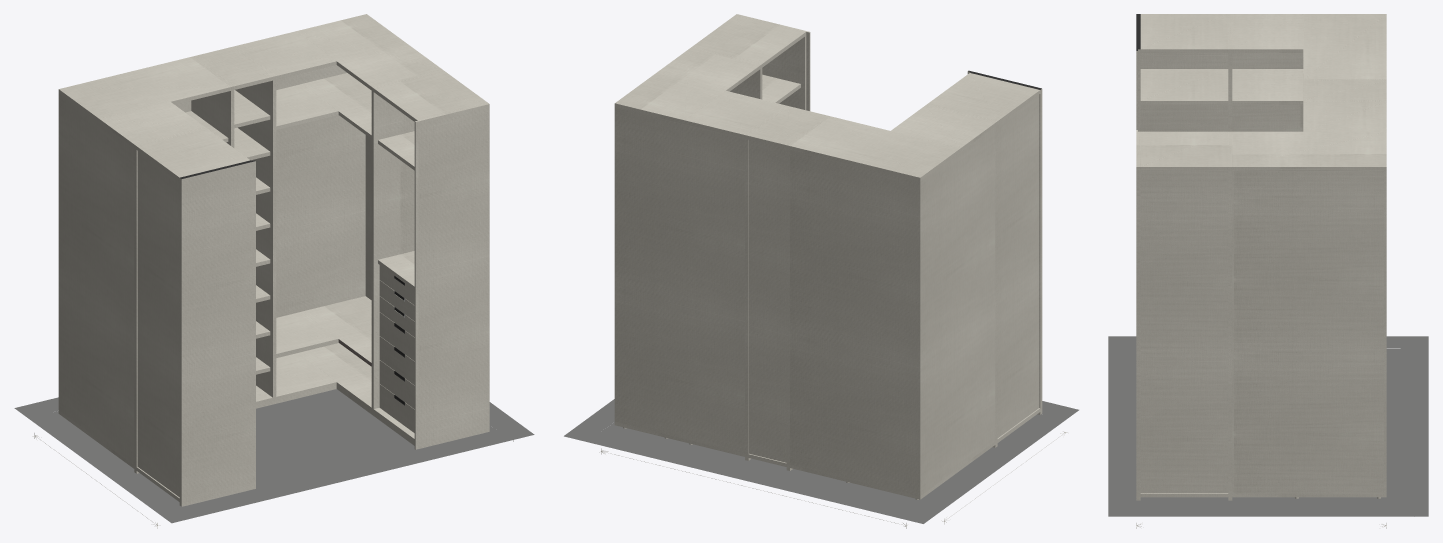
Rendered from C1-D3-PC-Drawers-TI.obj.
3 renders of one model, left to right at view 1: azimuth 30°, elevation 25°; view 2: azimuth 150°, elevation 25°; view 3: azimuth 270°, elevation 25°, orthographic. The views are drawn at different scales.
Parts seen in each view (by area): view 1: Mesh4 C1_D3_PC_DXF1 Model, Mesh26 C1_D3_PC_DXF1 Model, Mesh71 C1_D3_PC_DXF1 Model, Mesh7 C1_D3_PC_DXF1 Model, Mesh109 C1_D3_PC_DXF1 Model, Mesh110 C1_D3_PC_DXF1 Model, Mesh64 C1_D3_PC_DXF1 Model, Mesh87 C1_D3_PC_DXF1 Model, Mesh78 C1_D3_PC_DXF1 Model, Mesh77 C1_D3_PC_DXF1 Model, Mesh86 C1_D3_PC_DXF1 Model, Mesh108 C1_D3_PC_DXF1 Model (+3 smaller); view 2: Mesh26 C1_D3_PC_DXF1 Model, Mesh71 C1_D3_PC_DXF1 Model, Mesh4 C1_D3_PC_DXF1 Model, Mesh7 C1_D3_PC_DXF1 Model, Mesh53 C1_D3_PC_DXF1 Model, Mesh110 C1_D3_PC_DXF1 Model, Mesh109 C1_D3_PC_DXF1 Model, Mesh19 C1_D3_PC_DXF1 Model, Mesh98 C1_D3_PC_DXF1 Model; view 3: Mesh71 C1_D3_PC_DXF1 Model, Mesh4 C1_D3_PC_DXF1 Model, Mesh97 C1_D3_PC_DXF1 Model, Mesh110 C1_D3_PC_DXF1 Model, Mesh109 C1_D3_PC_DXF1 Model, Mesh7 C1_D3_PC_DXF1 Model, Mesh11 C1_D3_PC_DXF1 Model, Mesh26 C1_D3_PC_DXF1 Model, Mesh32 C1_D3_PC_DXF1 Model, Mesh64 C1_D3_PC_DXF1 Model.
Part boxes in pixels (x1,y1,x2,y2): Mesh4 C1_D3_PC_DXF1 Model: (58,14,489,506); Mesh26 C1_D3_PC_DXF1 Model: (58,93,191,464); Mesh71 C1_D3_PC_DXF1 Model: (276,65,371,357); Mesh7 C1_D3_PC_DXF1 Model: (137,151,179,496); Mesh109 C1_D3_PC_DXF1 Model: (52,389,496,507); Mesh110 C1_D3_PC_DXF1 Model: (14,397,534,523); Mesh64 C1_D3_PC_DXF1 Model: (276,343,371,406); Mesh87 C1_D3_PC_DXF1 Model: (302,296,371,366); Mesh78 C1_D3_PC_DXF1 Model: (302,73,371,138); Mesh77 C1_D3_PC_DXF1 Model: (276,84,338,129); Mesh86 C1_D3_PC_DXF1 Model: (276,312,338,357); Mesh108 C1_D3_PC_DXF1 Model: (256,382,414,445); Mesh26 C1_D3_PC_DXF1 Model: (790,127,995,495); Mesh71 C1_D3_PC_DXF1 Model: (614,107,744,453); Mesh4 C1_D3_PC_DXF1 Model: (614,14,1042,470); Mesh7 C1_D3_PC_DXF1 Model: (997,95,1039,437); Mesh53 C1_D3_PC_DXF1 Model: (749,140,786,462); Mesh110 C1_D3_PC_DXF1 Model: (564,399,1078,523); Mesh109 C1_D3_PC_DXF1 Model: (601,414,1041,508); Mesh19 C1_D3_PC_DXF1 Model: (790,441,995,499); Mesh98 C1_D3_PC_DXF1 Model: (762,74,800,103); Mesh71 C1_D3_PC_DXF1 Model: (1232,170,1386,493); Mesh4 C1_D3_PC_DXF1 Model: (1136,14,1386,500); Mesh97 C1_D3_PC_DXF1 Model: (1140,170,1228,492); Mesh110 C1_D3_PC_DXF1 Model: (1108,336,1428,516); Mesh109 C1_D3_PC_DXF1 Model: (1136,348,1400,504); Mesh7 C1_D3_PC_DXF1 Model: (1140,53,1228,131); Mesh11 C1_D3_PC_DXF1 Model: (1140,69,1228,104); Mesh26 C1_D3_PC_DXF1 Model: (1232,53,1303,131); Mesh32 C1_D3_PC_DXF1 Model: (1232,69,1303,104); Mesh64 C1_D3_PC_DXF1 Model: (1232,493,1386,497).
Size of the model in its own units: 121 by 109 by 90.
